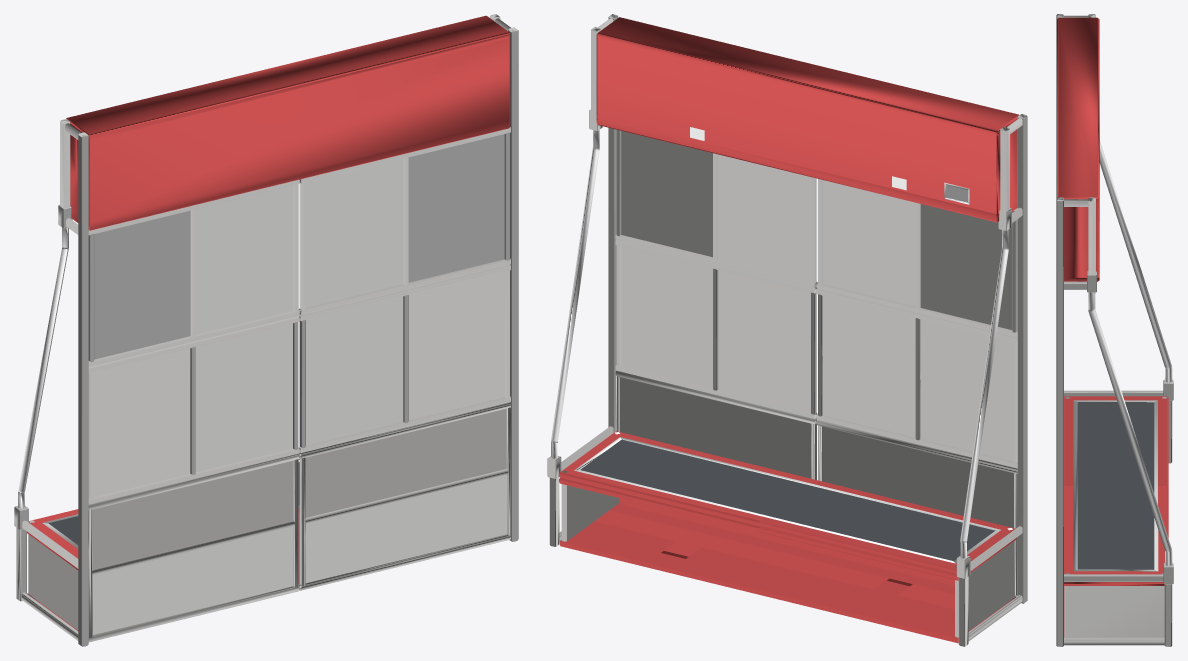
The model's file is rack_clothing_2_04x01x045_c.glb.
3 renders of one model, left to right at view 1: azimuth 30°, elevation 25°; view 2: azimuth 150°, elevation 25°; view 3: azimuth 270°, elevation 25°, orthographic. The views are drawn at different scales.
Size of the model in its own units: 3.08 by 3.42 by 0.8127.
